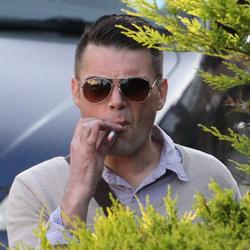smoking: (98, 119, 132, 143)
